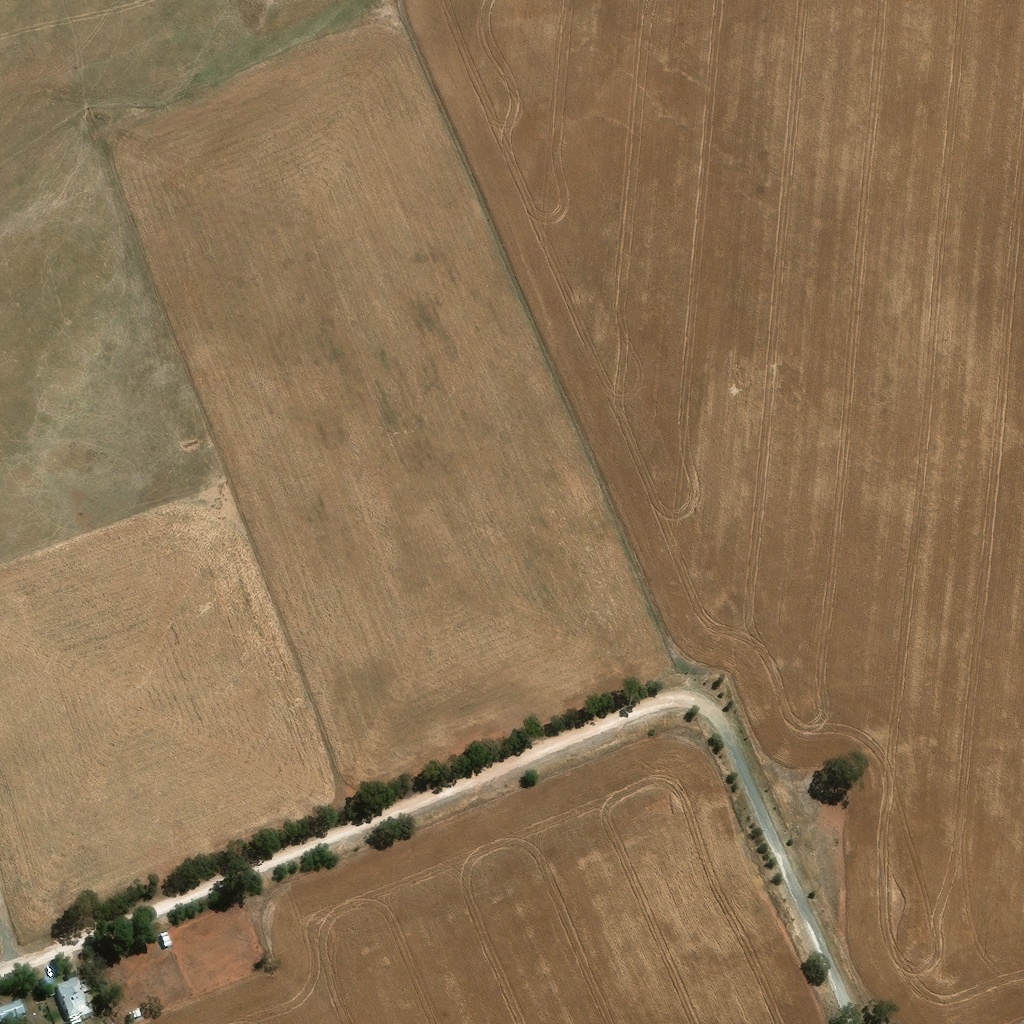0 no-damage: (57, 972, 93, 1023), (0, 997, 27, 1020), (160, 928, 173, 944), (130, 1004, 142, 1015)
